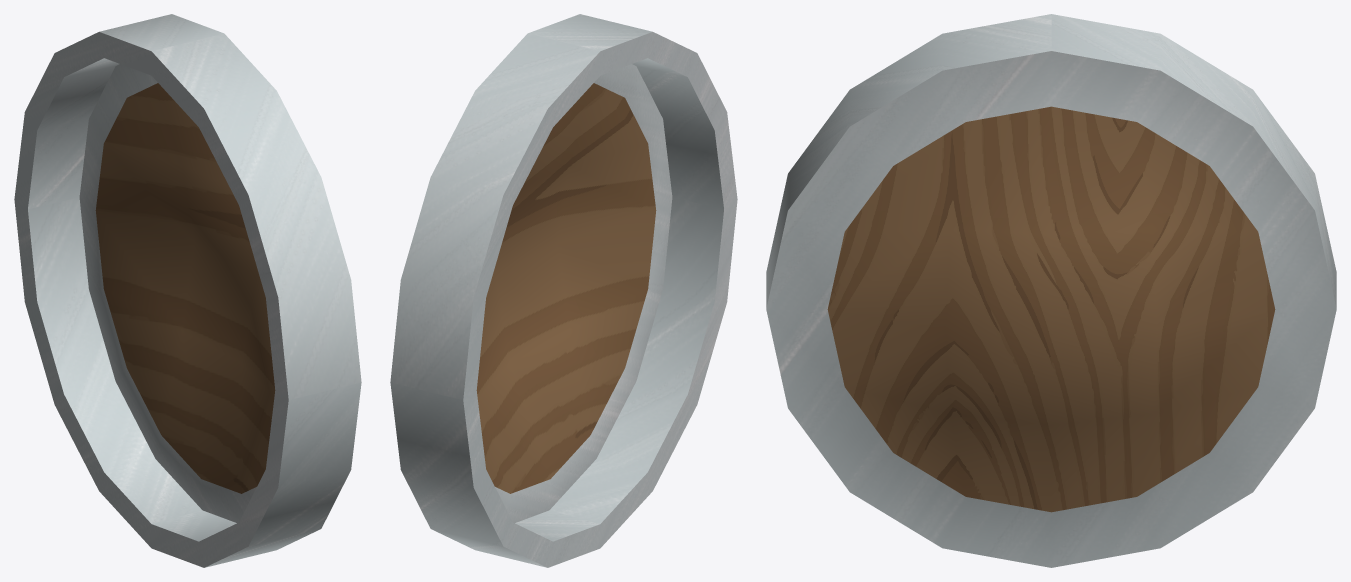
File: ShieldE.fbx
3 renders of one model, left to right at view 1: azimuth 30°, elevation 25°; view 2: azimuth 150°, elevation 25°; view 3: azimuth 270°, elevation 25°, orthographic. The views are drawn at different scales.
Visible parts, largest first — view 1: Shield E; view 2: Shield E; view 3: Shield E.
Part boxes in pixels (<box>): Shield E: <box>14,14,361,567</box>; Shield E: <box>390,14,737,567</box>; Shield E: <box>766,14,1336,567</box>.
Size of the model in its own units: 0.2251 by 0.8311 by 0.8311.
